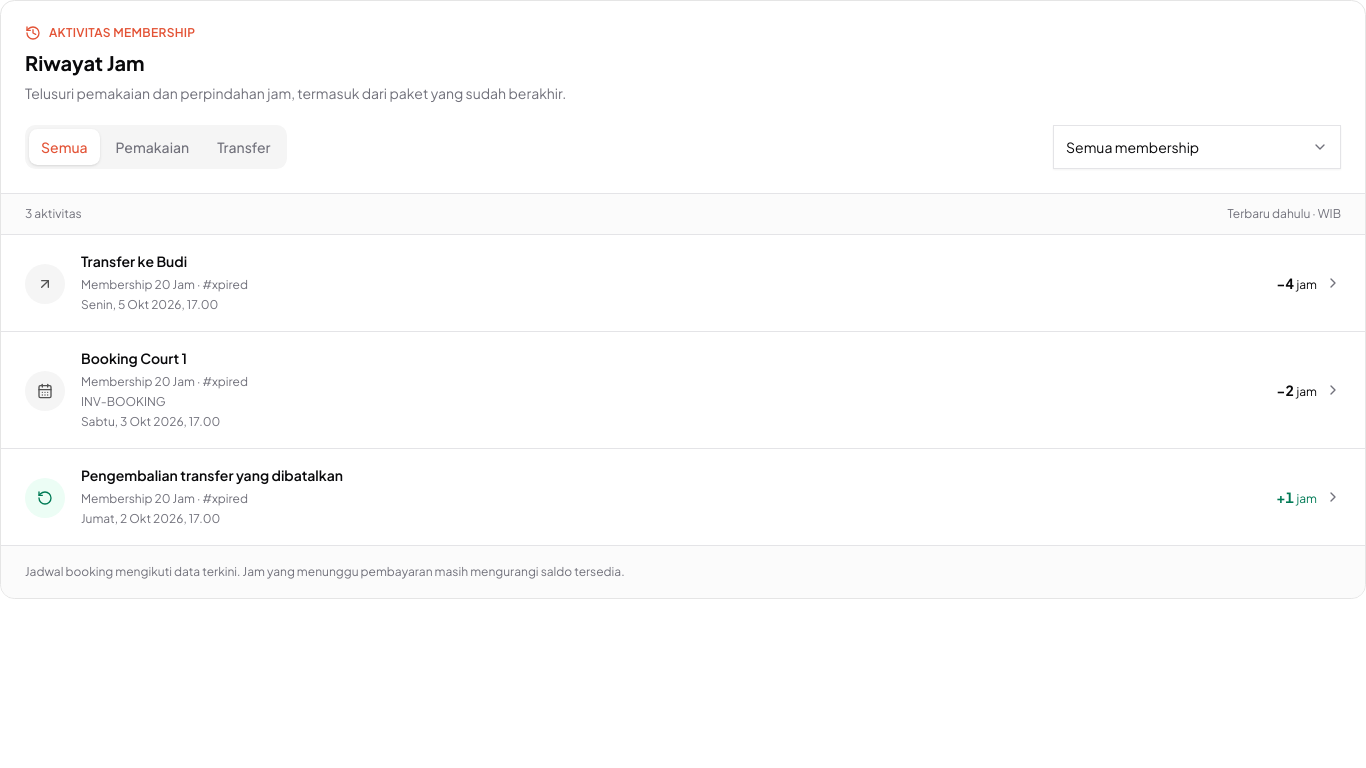
Test: membership hour history › preserves the stored court wall-clock schedule in booking details
The width and height of the screenshot is (1366, 768).
Click the button "Booking Court 1". click: (683, 390)
box: [1,332,1365,448]
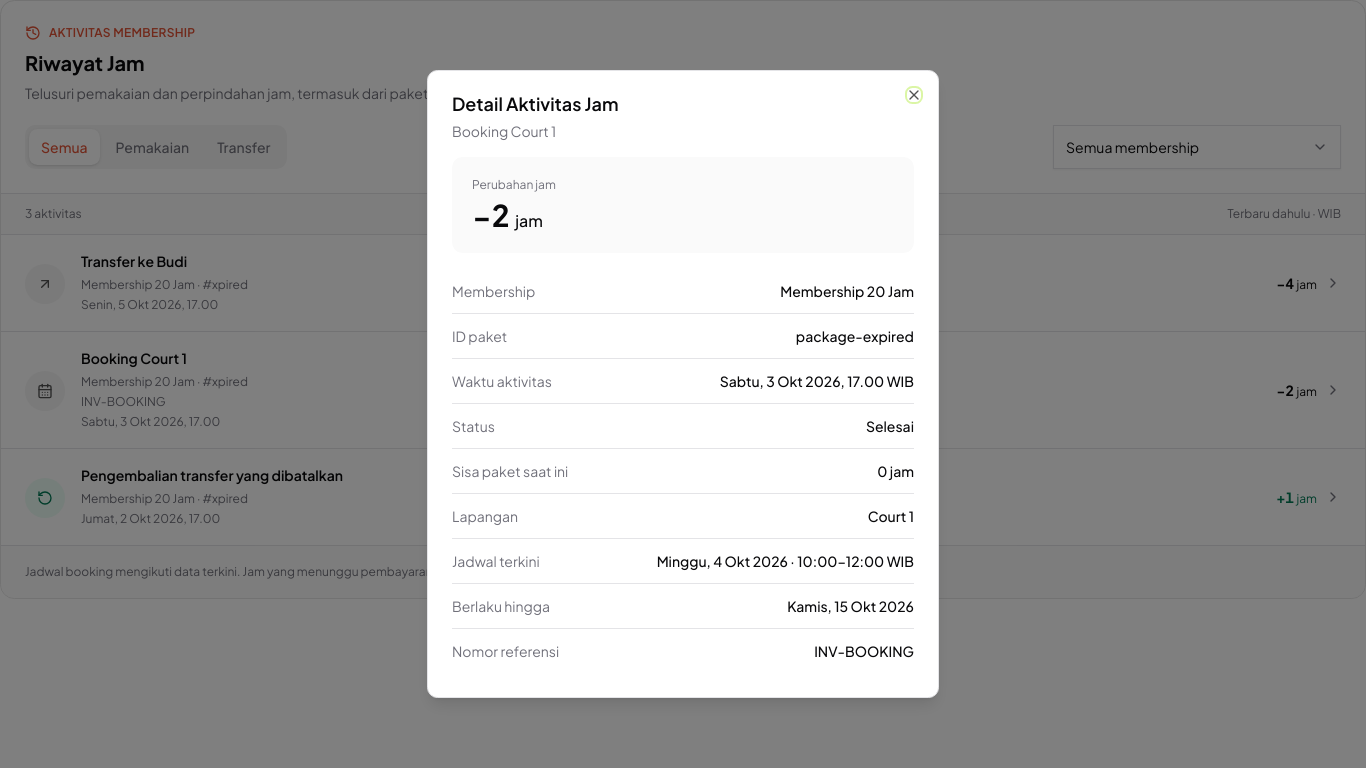
expect the text "Minggu, 4 Okt 2026 · 10:00–12:00 WIB" is shown: met, box [646,551,914,571]
